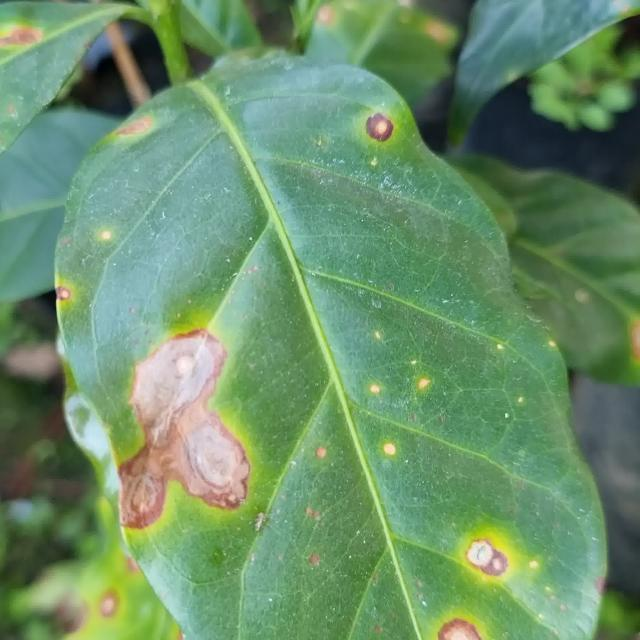leaves: (0, 0, 631, 640)
